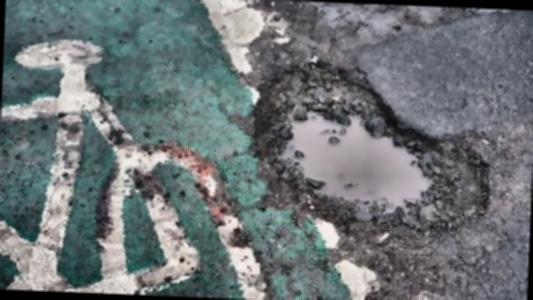pothole: (241, 56, 496, 246)
